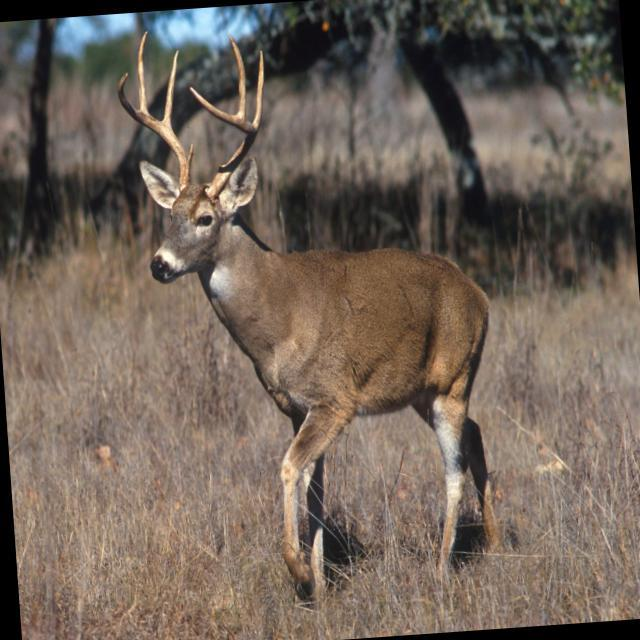L-F: (188, 86, 256, 204)
L-G1: (252, 49, 263, 134)
L-G2: (228, 34, 246, 119)
R-F: (117, 72, 190, 194)
R-G1: (186, 142, 193, 167)
R-G2: (162, 49, 178, 125)
R-G3: (137, 30, 147, 113)
